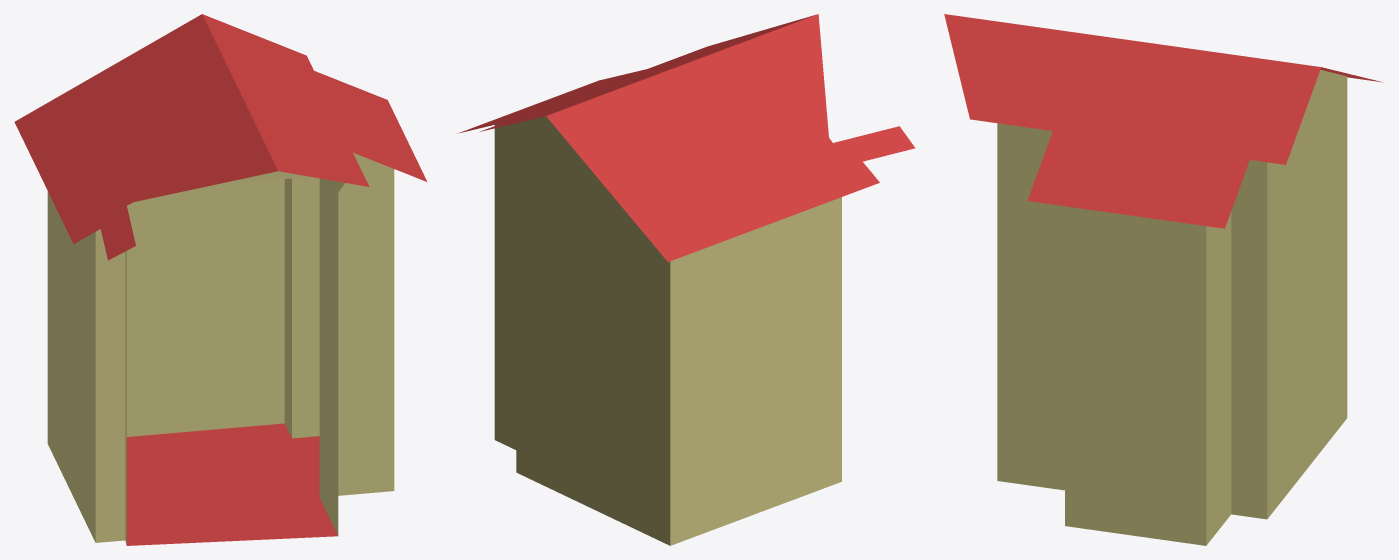
3 views of the same model, side by side, from view 1: azimuth 30°, elevation 25°; view 2: azimuth 150°, elevation 25°; view 3: azimuth 270°, elevation 25° (orthographic). The views are drawn at different scales.
Size of the model in its own units: 11.63 by 11.18 by 11.85.
